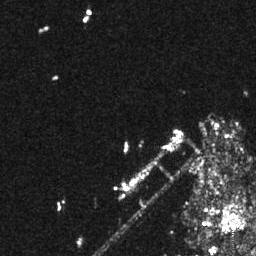ship: (82, 8, 92, 24), (171, 128, 188, 137), (120, 180, 131, 193), (122, 141, 130, 154), (38, 24, 49, 33), (56, 200, 62, 211), (118, 193, 127, 200), (161, 143, 170, 149), (52, 74, 58, 81)
